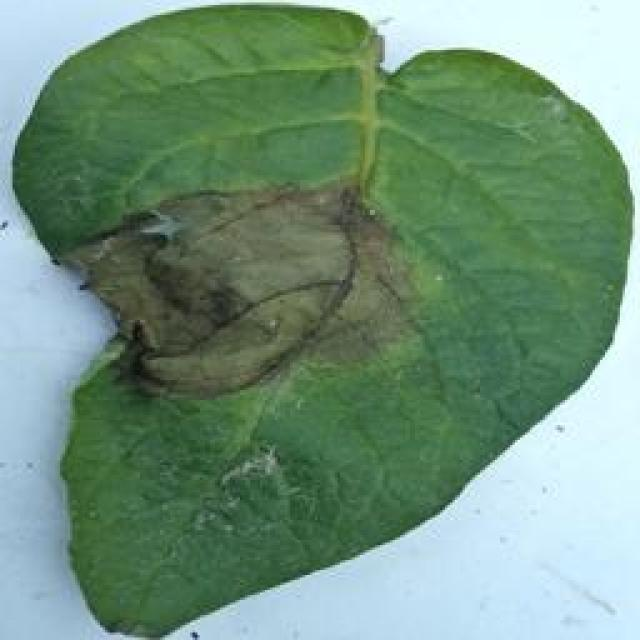Potato_Late_Blight: (17, 7, 624, 637)
